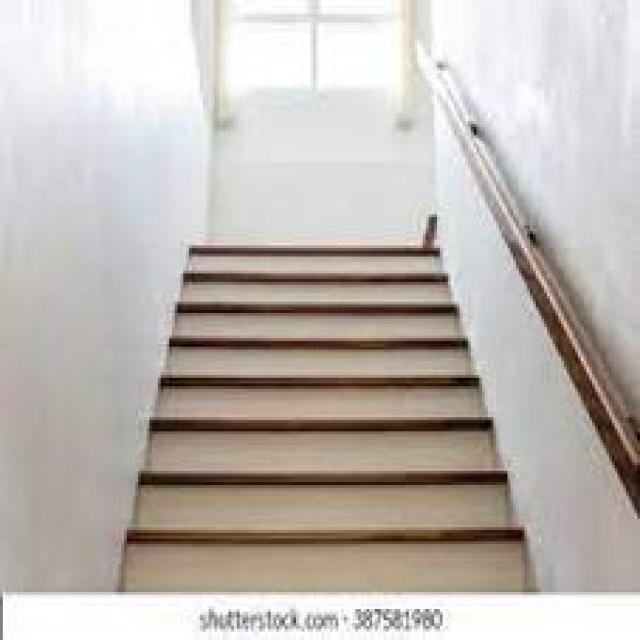upstair: (122, 353, 531, 565)
